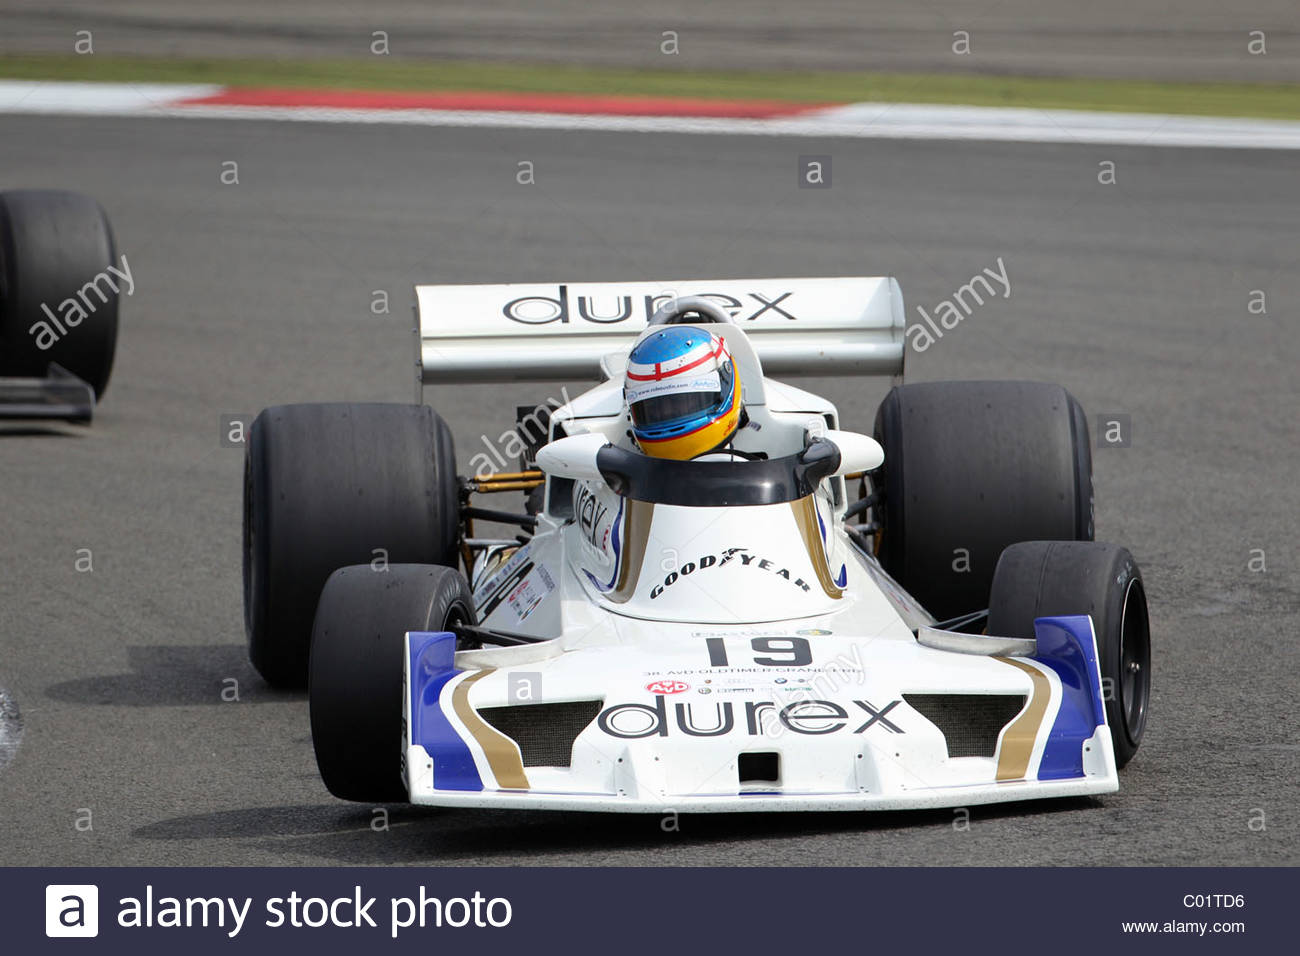f1_car: (205, 252, 1184, 858)
helmet: (608, 315, 755, 470)
